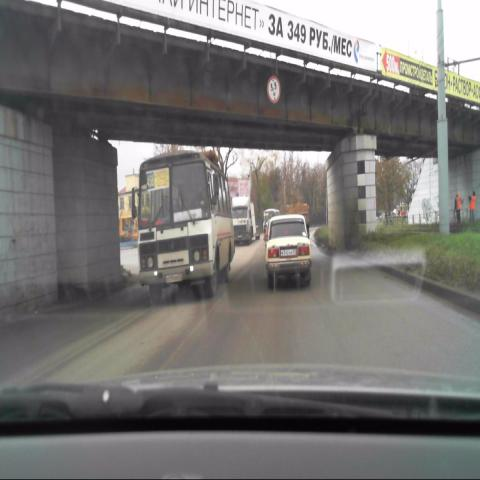3_13: (266, 75, 281, 103)
